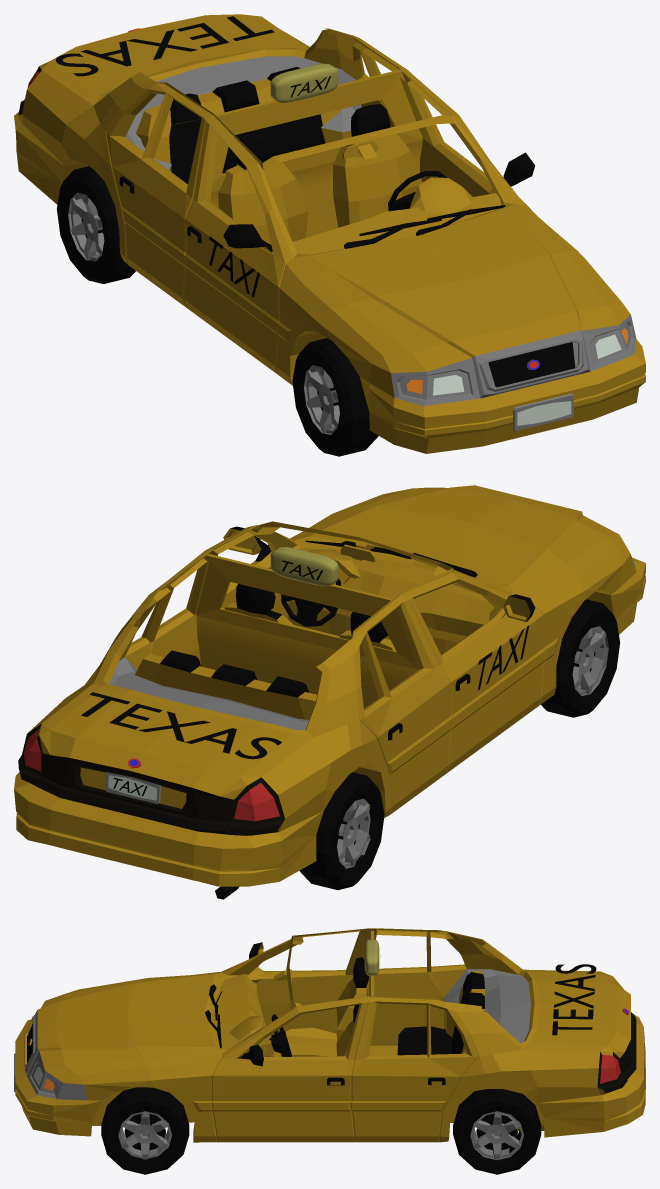
File: Tax.fbx
3 views of the same model, one above another, from view 1: azimuth 30°, elevation 25°; view 2: azimuth 150°, elevation 25°; view 3: azimuth 270°, elevation 25° (orthographic). The views are drawn at different scales.
Visible parts, largest first — view 1: SM_Veh_Car_Taxi_01, SM_Veh_Car_Taxi_Wheel_fr, SM_Veh_Car_Taxi_Wheel_rr, SM_Veh_Car_Taxi_01.021, SM_Veh_Car_Taxi_01.006, SM_Veh_Car_Taxi_01.019, SM_Veh_Car_Taxi_01.005, Text.005, Mball, SM_Veh_Car_Taxi_Wheel_rr.001, SM_Veh_Car_Taxi_Wheel_fr.001, SM_Veh_Car_Taxi_01.023 (+9 smaller); view 2: SM_Veh_Car_Taxi_01, SM_Veh_Car_Taxi_01.015, SM_Veh_Car_Taxi_Wheel_rr, SM_Veh_Car_Taxi_Wheel_fr, SM_Veh_Car_Taxi_01.021, Text.005, Mball, SM_Veh_Car_Taxi_01.020, SM_Veh_Car_Taxi_Wheel_fr.001, SM_Veh_Car_Taxi_01.014, SM_Veh_Car_Taxi_Wheel_rr.001, SM_Veh_Car_Taxi_01.023 (+5 smaller); view 3: SM_Veh_Car_Taxi_01, SM_Veh_Car_Taxi_Wheel_fl, SM_Veh_Car_Taxi_Wheel_rl, SM_Veh_Car_Taxi_01.021, SM_Veh_Car_Taxi_Wheel_rl.001, SM_Veh_Car_Taxi_Wheel_fl.001, SM_Veh_Car_Taxi_01.019, SM_Veh_Car_Taxi_01.006, Text.005, SM_Veh_Car_Taxi_01.015, SM_Veh_Car_Taxi_01.020, Mball (+6 smaller).
Boxes of the visible parts, x1,y1,x2,y2 form: SM_Veh_Car_Taxi_01: (14,14,645,453); SM_Veh_Car_Taxi_Wheel_fr: (292,338,378,456); SM_Veh_Car_Taxi_Wheel_rr: (57,166,135,283); SM_Veh_Car_Taxi_01.021: (125,56,361,169); SM_Veh_Car_Taxi_01.006: (472,315,636,398); SM_Veh_Car_Taxi_01.019: (169,114,325,184); SM_Veh_Car_Taxi_01.005: (488,342,575,387); Text.005: (55,16,274,76); Mball: (270,63,338,102); SM_Veh_Car_Taxi_Wheel_rr.001: (68,192,104,261); SM_Veh_Car_Taxi_Wheel_fr.001: (303,365,339,434); SM_Veh_Car_Taxi_01.023: (236,104,390,169); SM_Veh_Car_Taxi_01: (14,485,645,886); SM_Veh_Car_Taxi_01.015: (18,724,284,835); SM_Veh_Car_Taxi_Wheel_rr: (299,772,384,890); SM_Veh_Car_Taxi_Wheel_fr: (541,599,620,717); SM_Veh_Car_Taxi_01.021: (109,657,309,730); Text.005: (81,692,281,759); Mball: (270,547,338,586); SM_Veh_Car_Taxi_01.020: (160,650,308,697); SM_Veh_Car_Taxi_Wheel_fr.001: (572,626,608,695); SM_Veh_Car_Taxi_01.014: (23,729,279,821); SM_Veh_Car_Taxi_Wheel_rr.001: (337,798,370,868); SM_Veh_Car_Taxi_01.023: (236,584,387,642); SM_Veh_Car_Taxi_01: (15,928,645,1142); SM_Veh_Car_Taxi_Wheel_fl: (101,1087,189,1174); SM_Veh_Car_Taxi_Wheel_rl: (453,1089,541,1174); SM_Veh_Car_Taxi_01.021: (444,969,531,1043); SM_Veh_Car_Taxi_Wheel_rl.001: (470,1111,523,1160); SM_Veh_Car_Taxi_Wheel_fl.001: (118,1111,172,1159); SM_Veh_Car_Taxi_01.019: (397,994,465,1055); SM_Veh_Car_Taxi_01.006: (24,1010,87,1100); Text.005: (552,964,596,1035); SM_Veh_Car_Taxi_01.015: (597,1012,636,1094); SM_Veh_Car_Taxi_01.020: (463,972,484,1008); Mball: (364,939,379,975).
Size of the model in its own units: 21.72 by 16.17 by 51.76.
